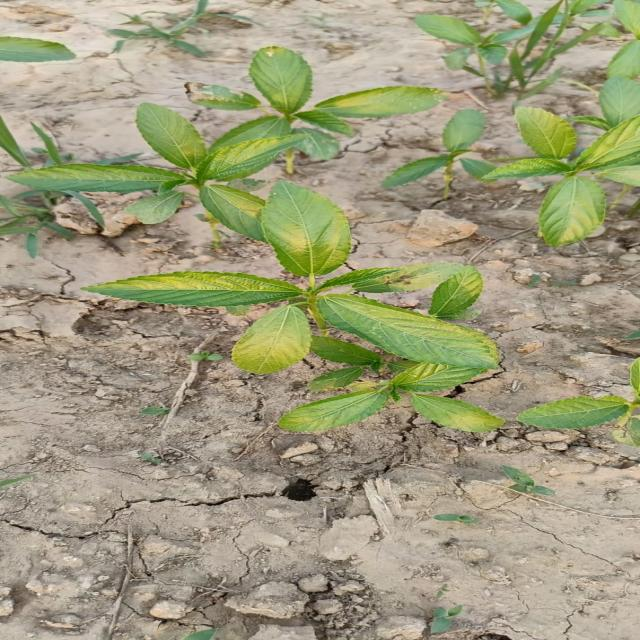plant: (8, 48, 502, 432), (384, 76, 640, 246), (519, 375, 637, 443)
weed: (8, 48, 499, 431), (384, 76, 640, 246), (0, 38, 65, 50)
